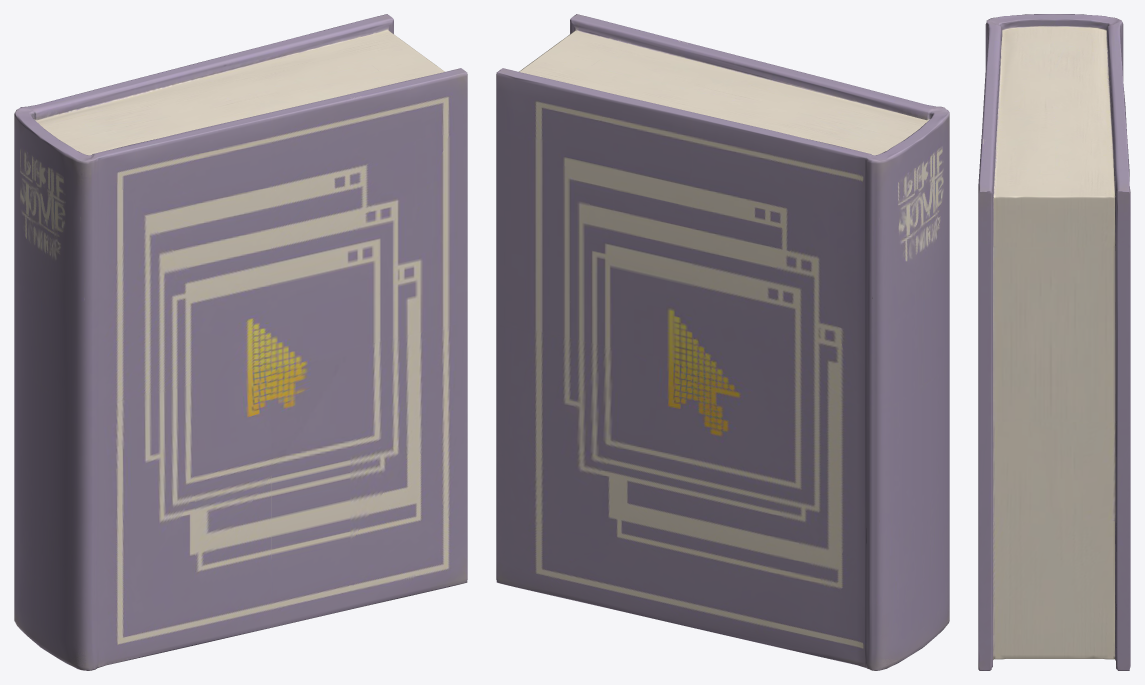
The model's file is the-dream-machine.glb.
3 renders of one model, left to right at view 1: azimuth 30°, elevation 25°; view 2: azimuth 150°, elevation 25°; view 3: azimuth 270°, elevation 25°, orthographic. The views are drawn at different scales.
Visible parts, largest first — view 1: The Dream Machine; view 2: The Dream Machine; view 3: The Dream Machine.
Part boxes in pixels (x1,y1,x2,y2): The Dream Machine: (14, 14, 467, 670); The Dream Machine: (496, 14, 949, 670); The Dream Machine: (978, 14, 1130, 670).
Size of the model in its own units: 0.791 by 0.998 by 0.2871.
Materials: 1 (1 with a texture image).
